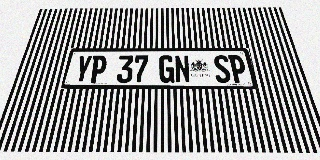3: (116, 55, 134, 83)
7: (132, 55, 149, 83)
G: (159, 55, 175, 83)
N: (174, 55, 191, 83)
P: (228, 55, 248, 83), (89, 55, 108, 83)
S: (213, 55, 232, 83)
Y: (73, 55, 93, 83)
